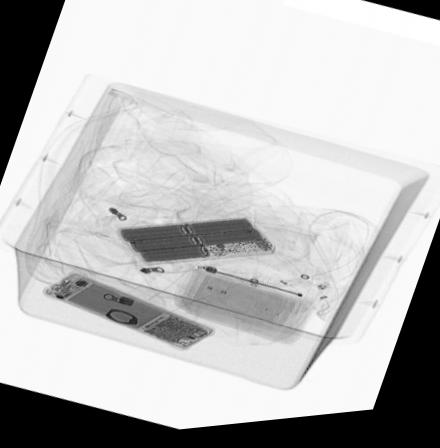Powerbank: (112, 221, 283, 268)
